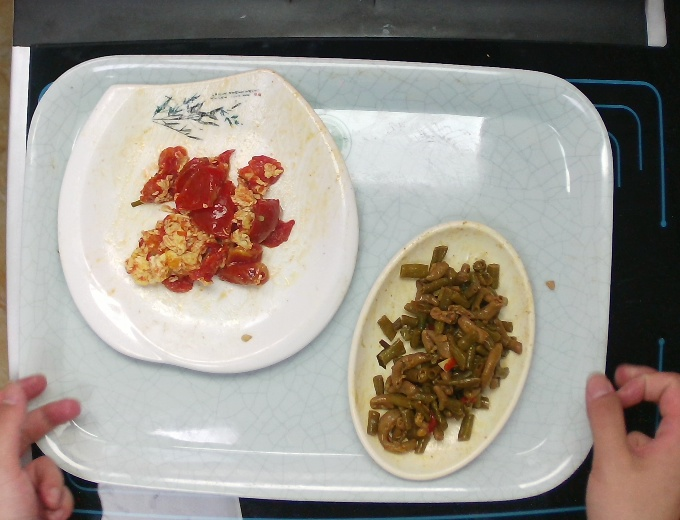JYsf-Mian_Pan: (55, 65, 361, 376)
JYsf-Tuo_Yuan_Wan: (345, 217, 537, 484)
